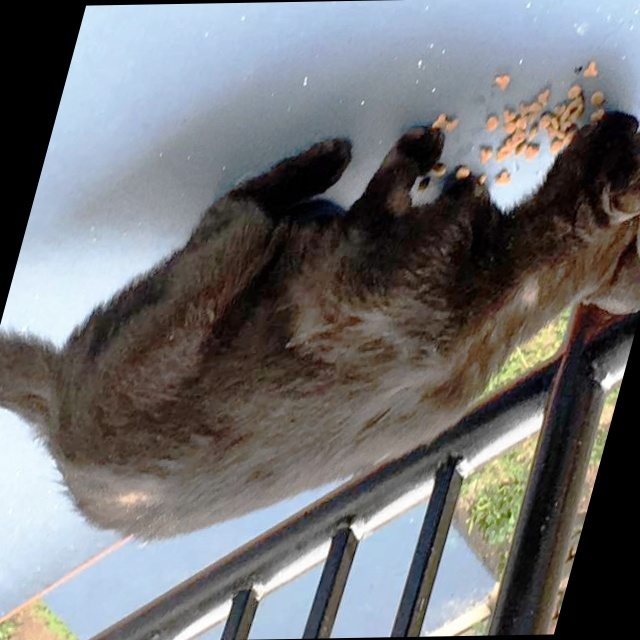hairloss: (103, 487, 162, 516), (520, 282, 540, 314)
